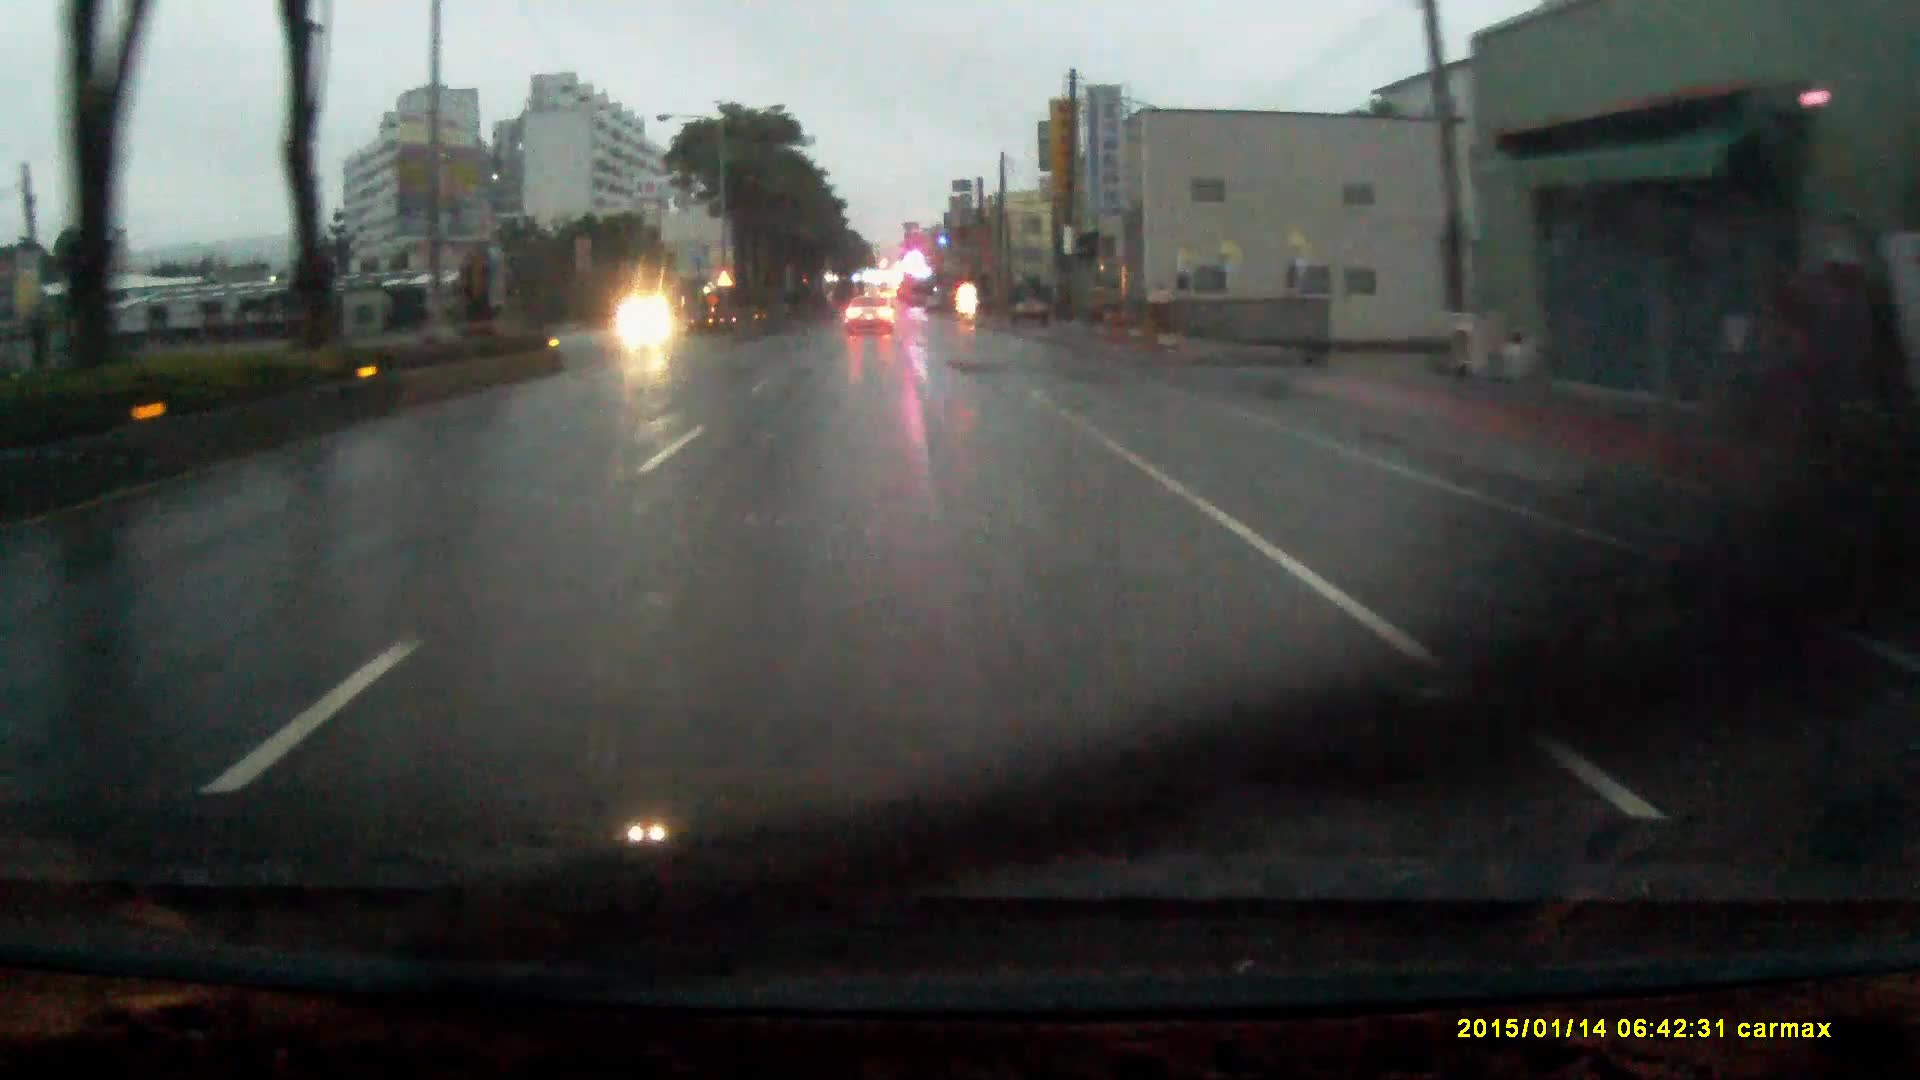vehicle: (847, 295, 898, 336), (1015, 285, 1051, 328)
